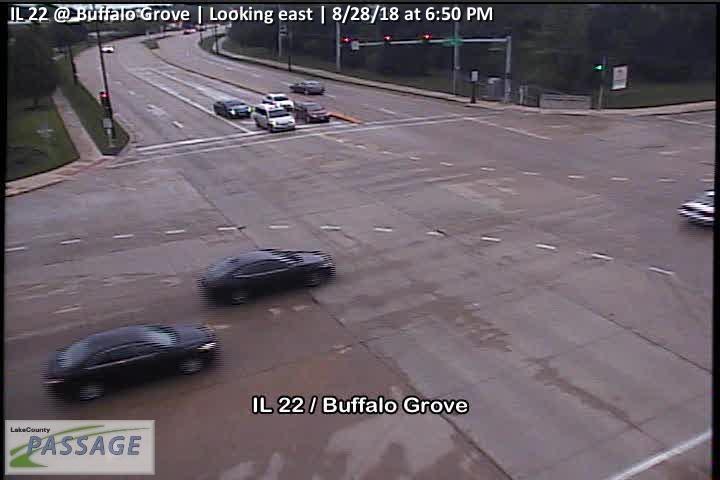SUV: (253, 99, 297, 134)
Sedan: (45, 322, 215, 404), (203, 247, 334, 307), (213, 97, 252, 120), (260, 90, 296, 114), (293, 101, 330, 124), (291, 78, 325, 95)
